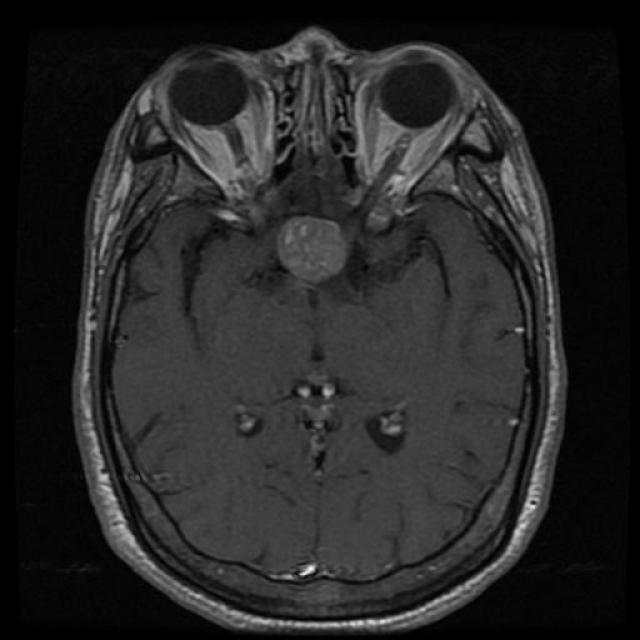Brain-Tumor: (266, 204, 364, 296)
eye: (147, 33, 285, 217), (354, 30, 474, 223)
